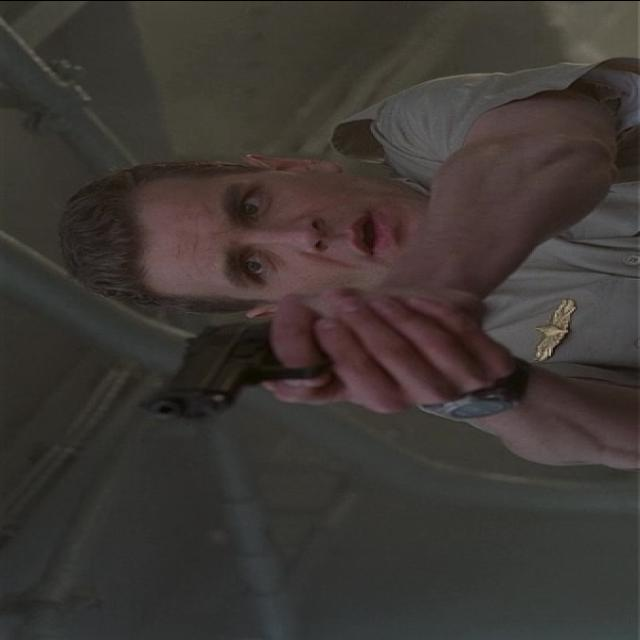weapons: (134, 305, 408, 425)
